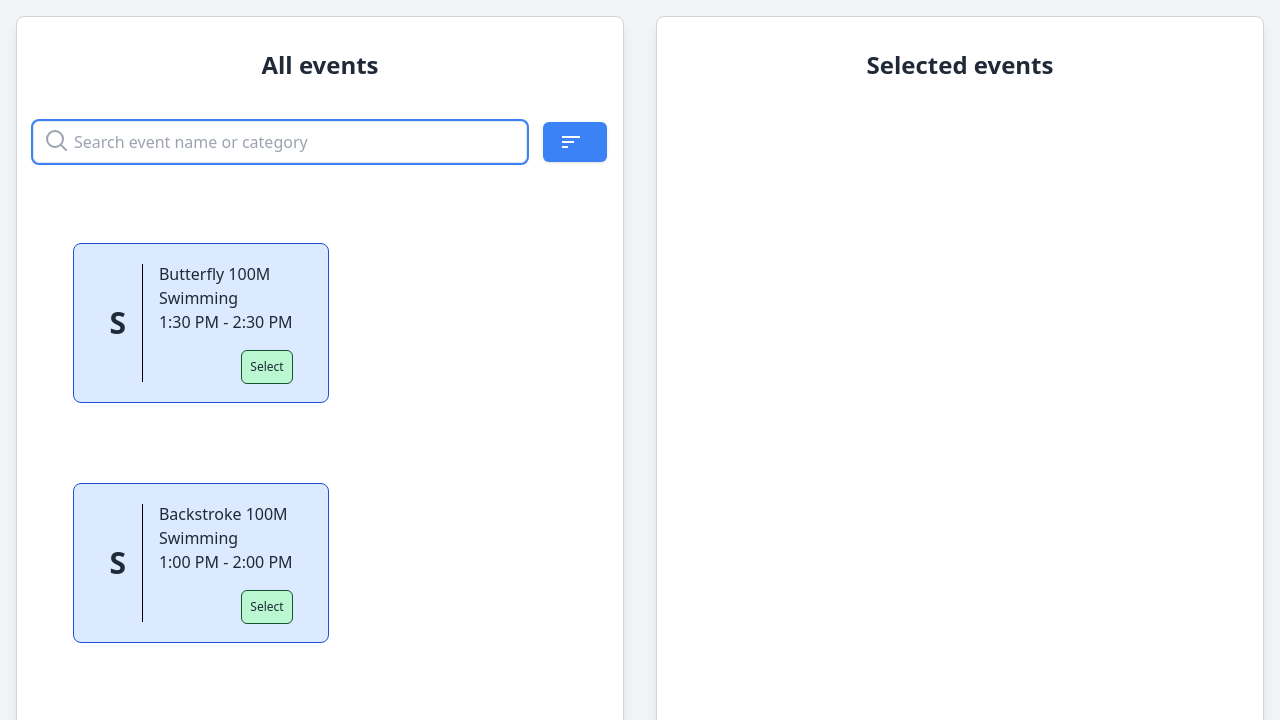
Test: Events Component › selects an event and moves it to selected events
Click the button "Select" below "1:30 PM".
click(267, 367)  # box x1=241 y1=350 x2=293 y2=384
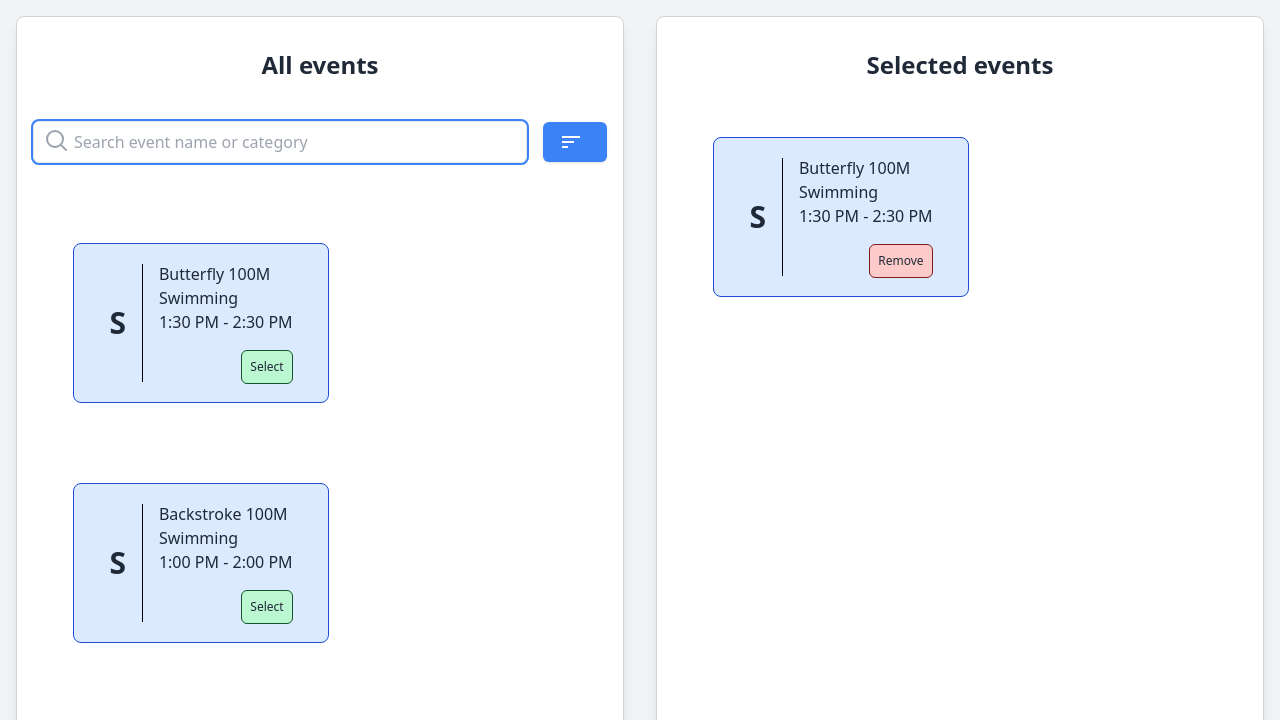
Now the button "Remove" is shown, box x1=869 y1=244 x2=933 y2=278
